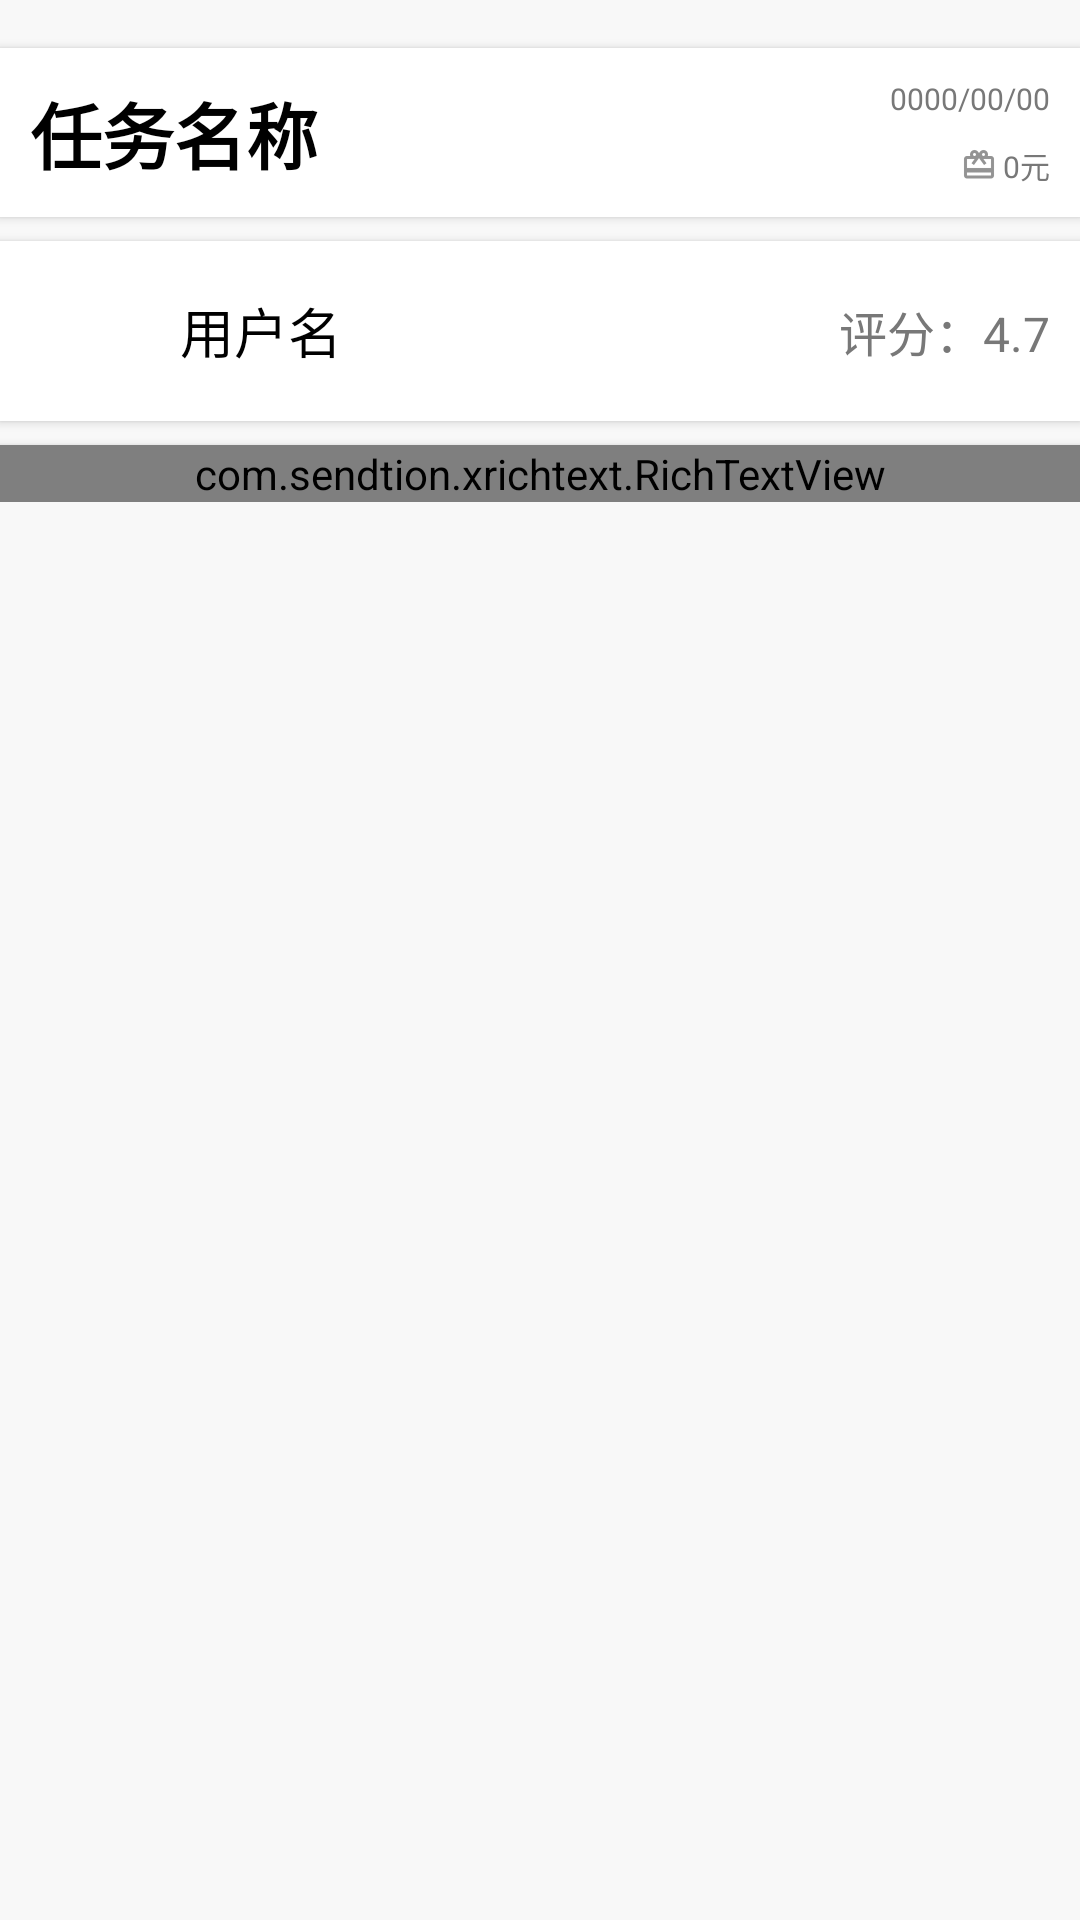

Icon bounding boxes for this 1080px×1920px phone screenshot, format (x1=x1, y1=y1, x2=x2, y2=y2):
gift: (x1=964, y1=150, x2=994, y2=179)
